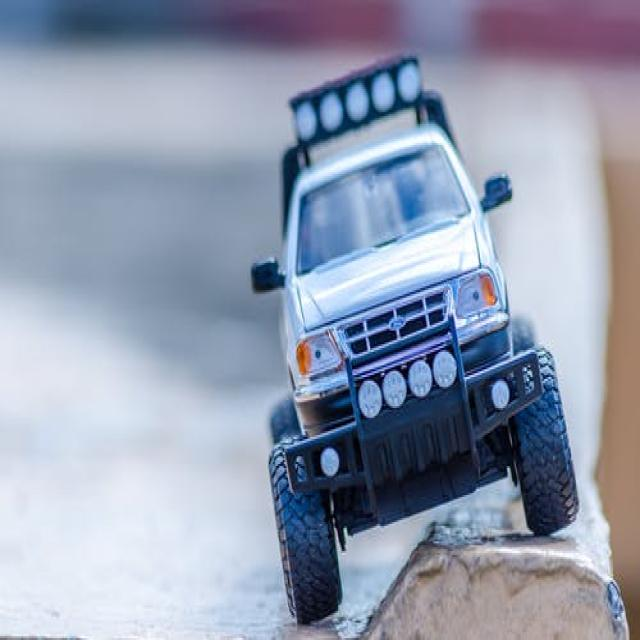Car: (248, 50, 580, 625)
